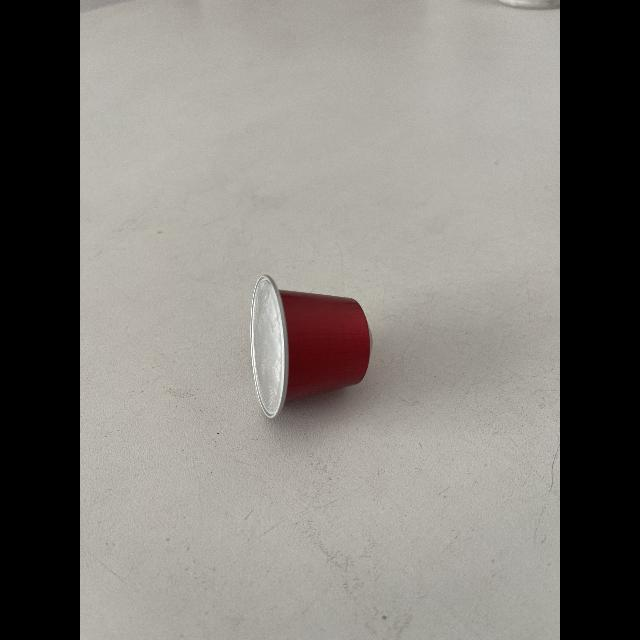intact_capsule: (239, 264, 385, 432)
